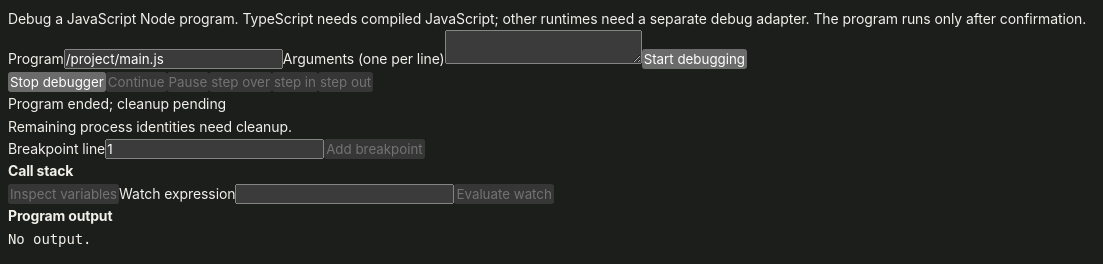
Test: an ended debugger keeps Stop reachable for retained cleanup, exposes refusal and clears only confirmed cleanup
Expected: the message "Program ended; cleanup pending" is shown, [8, 95, 226, 112]
Expected: the message "Remaining process identities need cleanup." is shown, [8, 118, 292, 135]
Click the button "Stop debugger".
click(57, 82)  # box [8, 72, 106, 92]
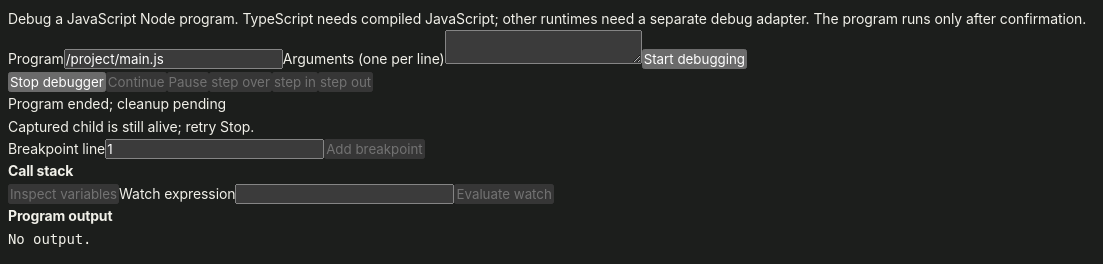
Result: the message "Captured child is still alive; retry Stop." is shown at [8, 118, 254, 135]
Click the button "Stop debugger".
click(57, 82)  # box [8, 72, 106, 92]
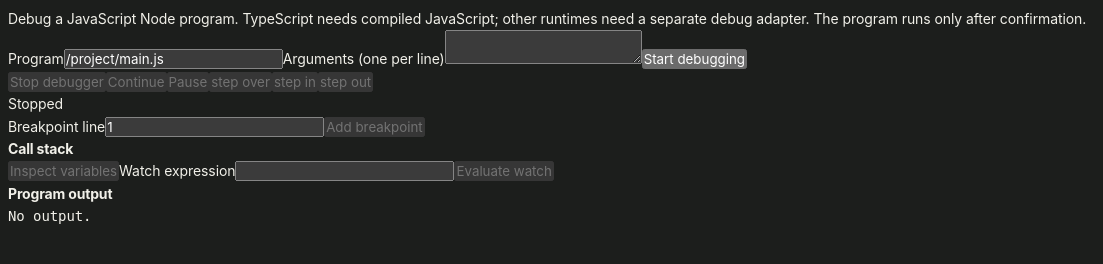
Result: the button "Stop debugger" is disabled at [8, 72, 106, 92]
Result: the message reads "Stopped" at [8, 95, 63, 112]
Result: the message "Captured child is still alive; retry Stop." is gone
